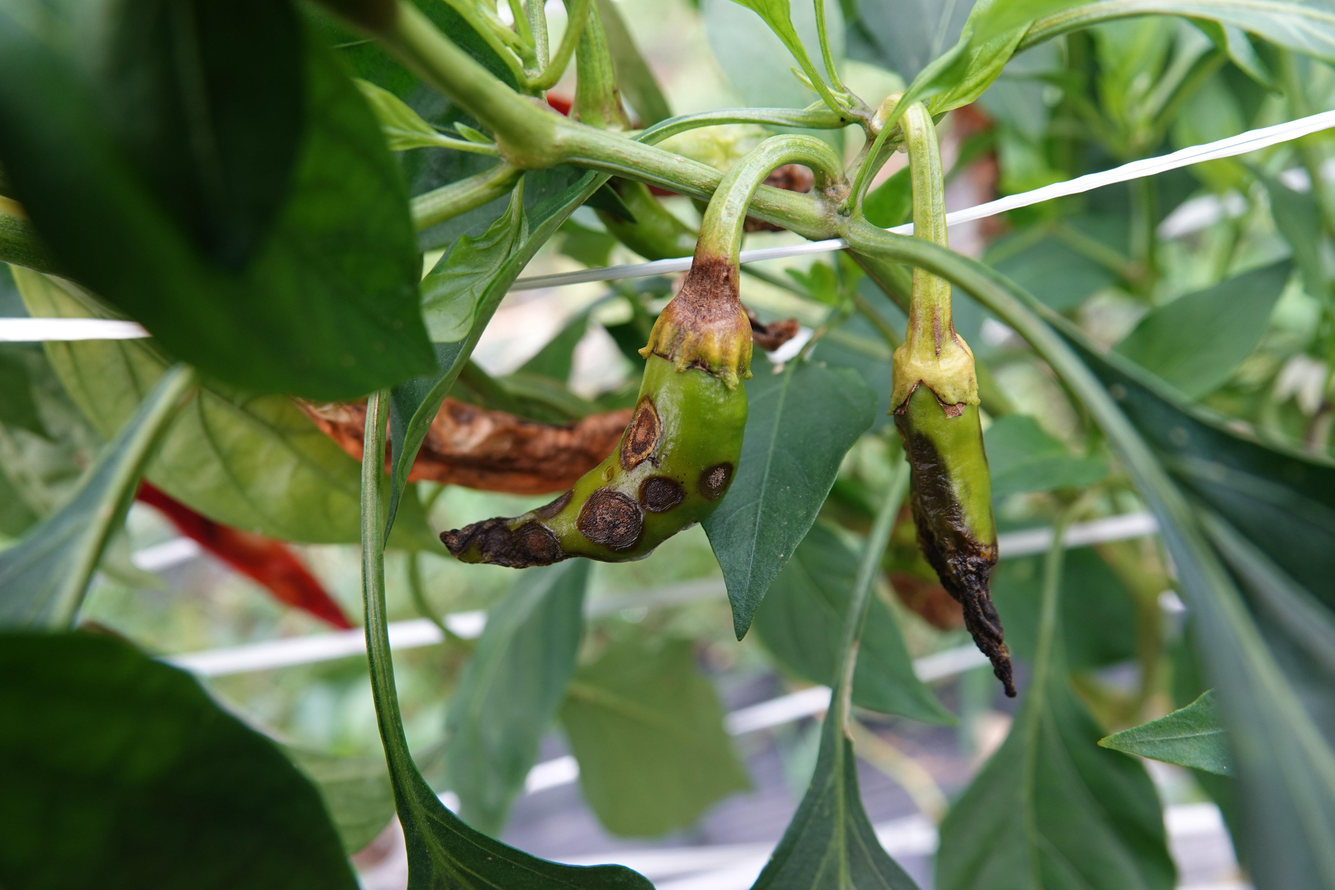Busuk Buah Antraknosa: (436, 134, 822, 572), (890, 316, 1033, 700)
